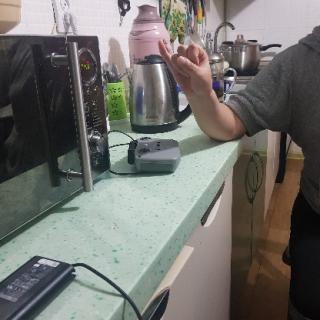MEEM: (158, 39, 218, 100)
